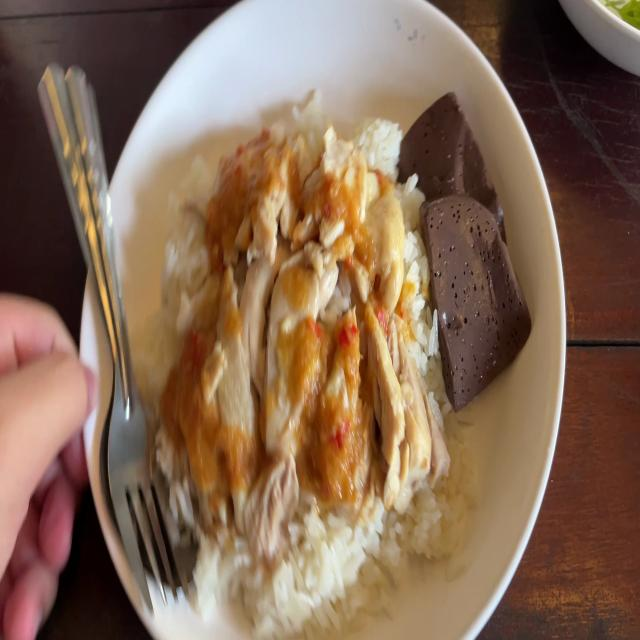boiled_chicken: (181, 148, 389, 474)
boiled_chicken_blood_jelly: (426, 192, 522, 388), (396, 96, 509, 245)
chicken_rice: (134, 89, 539, 634)
